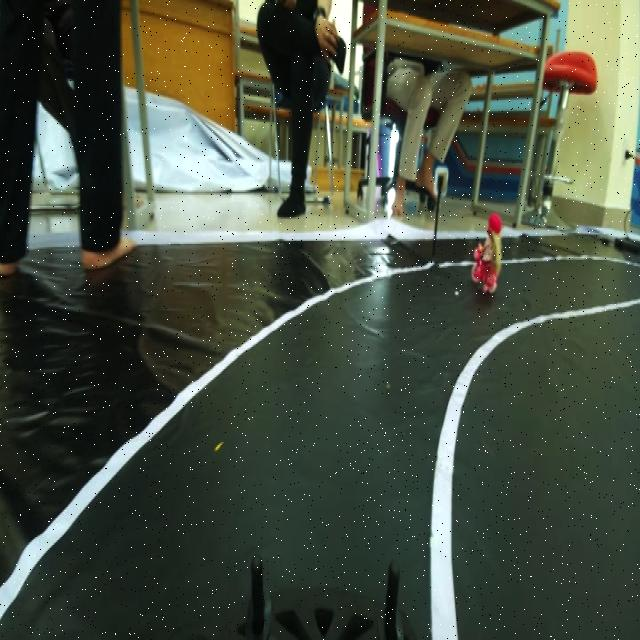pedestrian: (469, 207, 504, 311)
